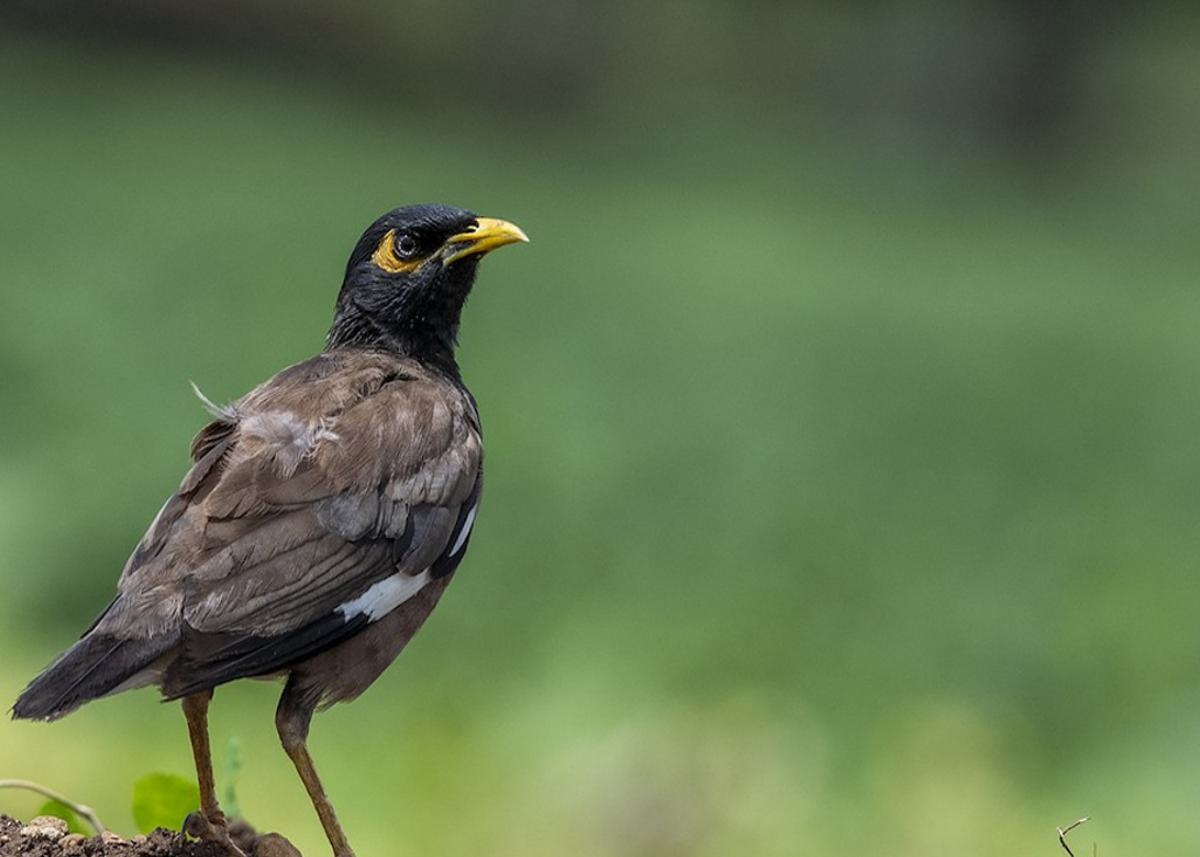myna: (76, 158, 554, 798)
